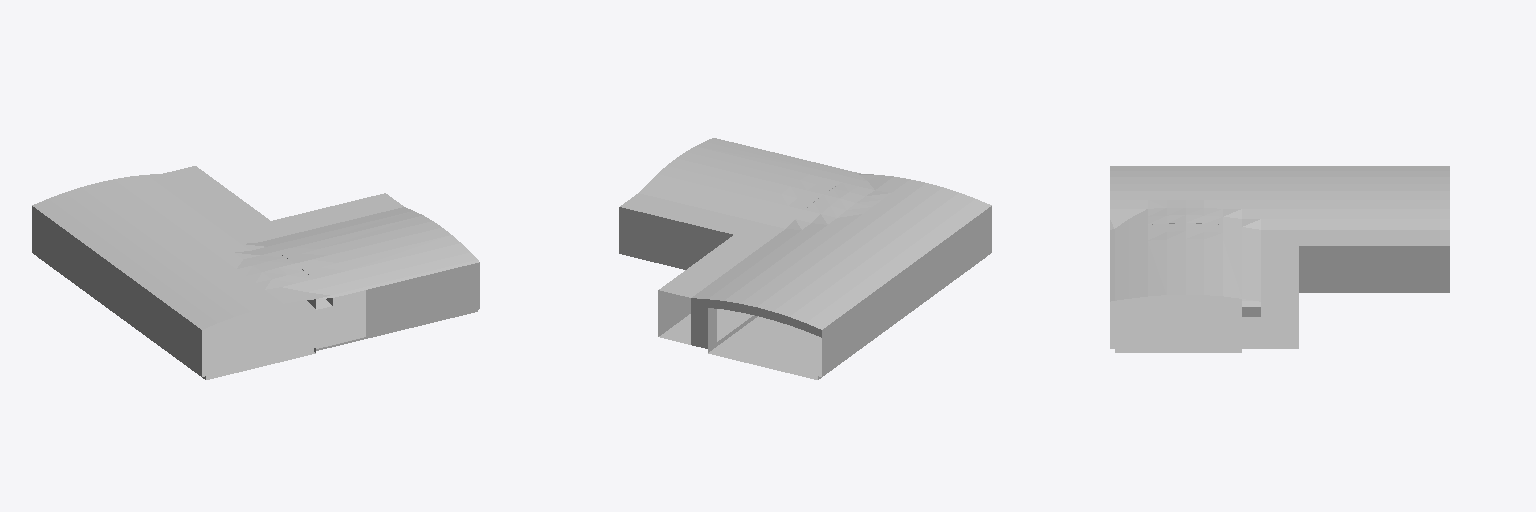
Rendered from catacomb_t_1.obj.
The picture shows the model from 3 angles: view 1: azimuth 30°, elevation 25°; view 2: azimuth 150°, elevation 25°; view 3: azimuth 270°, elevation 25°; orthographic projection.
Visible parts, largest first — view 1: catacomb_t_1; view 2: catacomb_t_1, catacomb_t_1 main_pillar_1; view 3: catacomb_t_1.
Boxes of the visible parts, x1=… form: catacomb_t_1: x1=32, y1=166, x2=479, y2=379; catacomb_t_1: x1=619, y1=138, x2=991, y2=379; catacomb_t_1 main_pillar_1: x1=691, y1=298, x2=821, y2=348; catacomb_t_1: x1=1110, y1=166, x2=1449, y2=352.
Bounding box in the file's own units: 17 × 3.42 × 18.